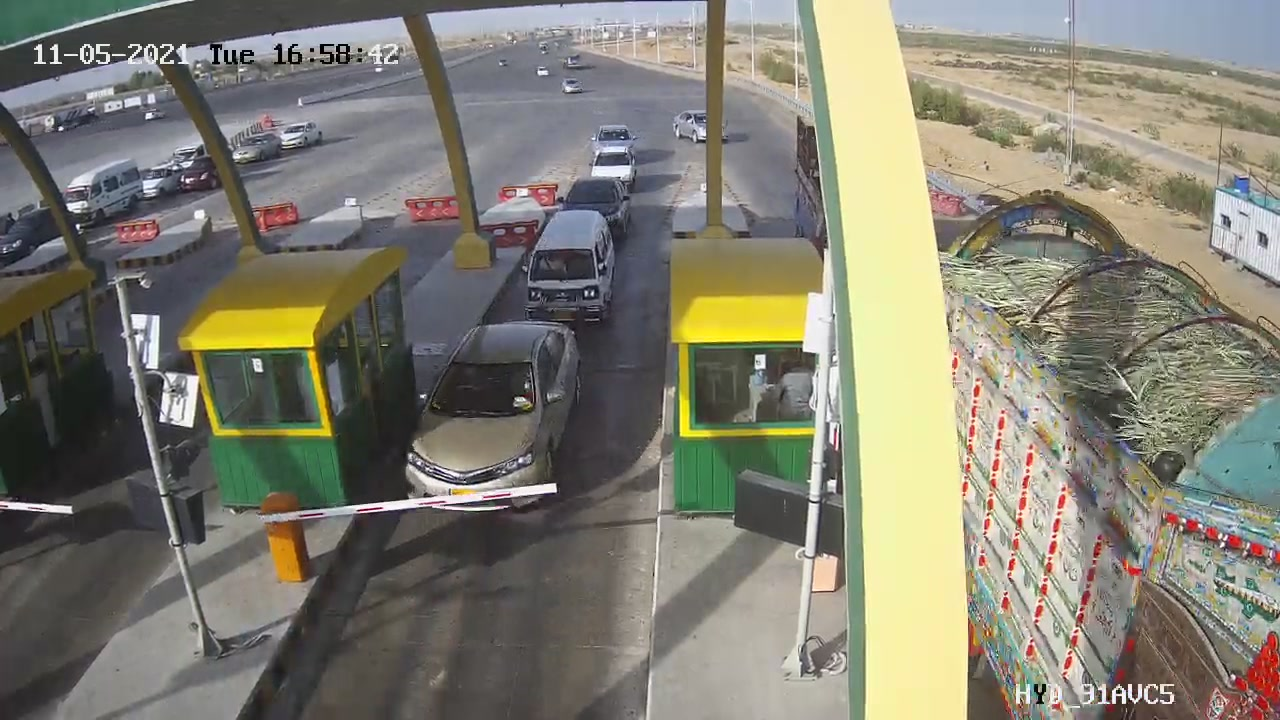F1: (385, 302, 600, 527), (503, 197, 635, 343)
